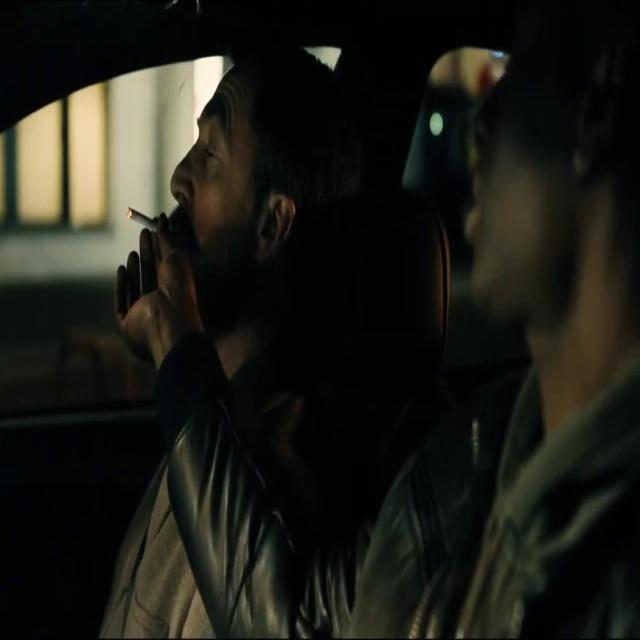Smooking: (121, 194, 155, 240)
